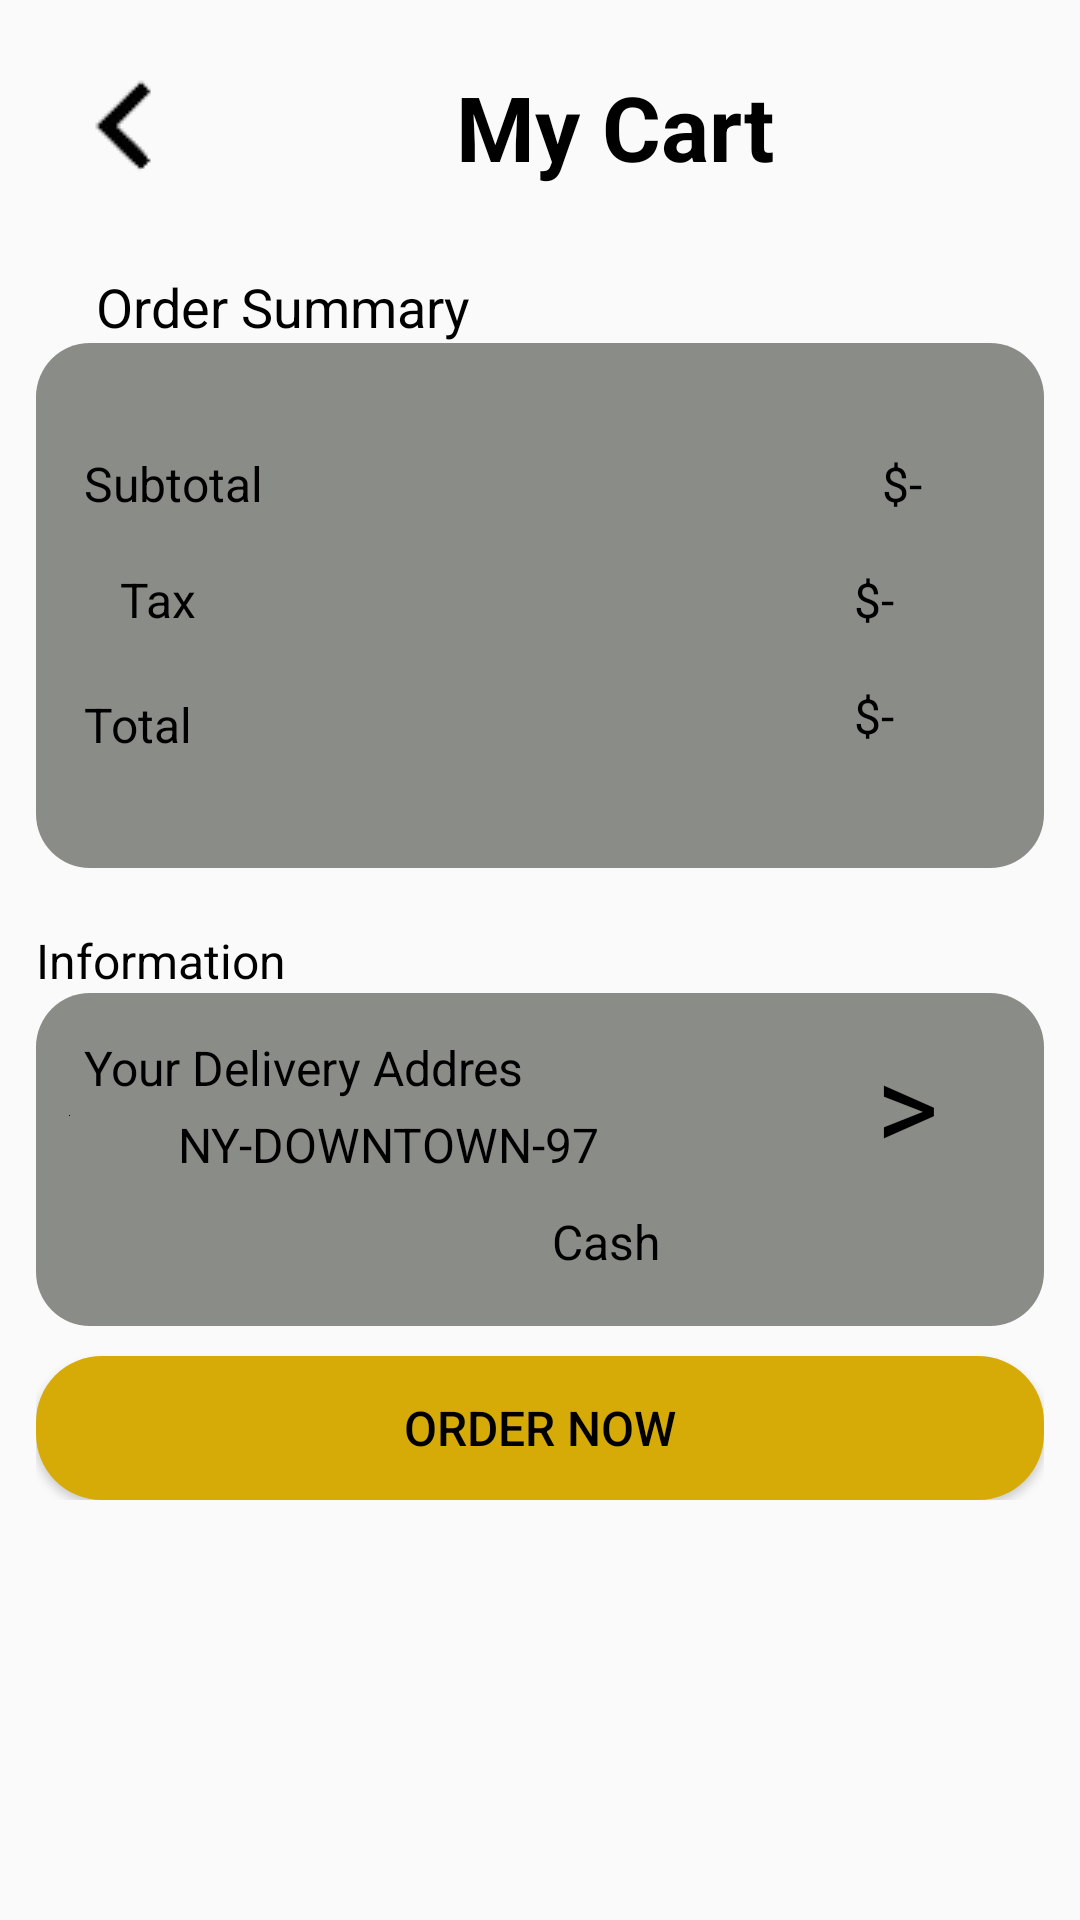

Screen size 1080px×1920px. Icon name, then its center in pixels as [x,y]:
backbutton: [123,125]
